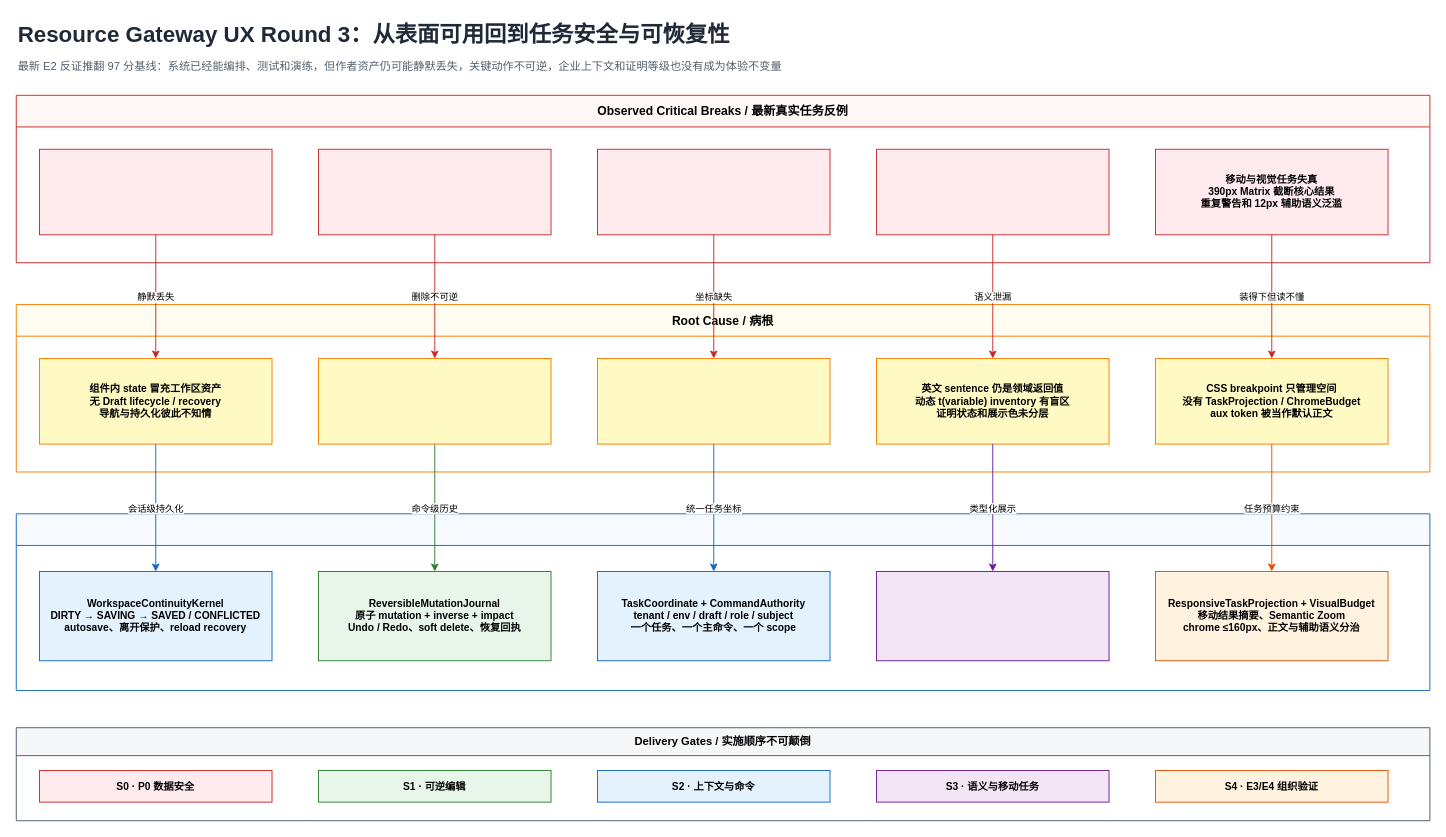
This 1446x837 diagram has some shape labels left out. The box of each missing label's shape, as (x1, y1, x2, y2) in pixels:
SemanticPresentationPlane messageId + params + rawCode 业务结论 / 证明等级 / 技术身份分层: (876, 571, 1109, 661)
setState 直接修改领域事实 没有 transaction / inverse / journal 副资产删除不是同一原子命令: (318, 358, 551, 444)
Target UX Control Plane / 平台化根治机制: (15, 513, 1430, 691)
中文与证明语义泄漏 执行原型、测试结果仍是英文 raw code 进入默认业务列表: (876, 148, 1109, 235)
任务坐标与命令分裂 Author 不显示 tenant / env / role 820px 前 273px 被 chrome 占用: (597, 148, 830, 235)
无保护的数据丢失 5 节点 / 12 连线草稿 跨工作区返回后变 0 / 0: (39, 148, 272, 235)
破坏性编辑不可恢复 Delete 同步移除节点、边 fixture、测试套件与结果: (318, 148, 551, 235)
路由、草稿、角色、环境分散 没有统一 TaskCoordinate 每个 surface 自己决定命令和 chrome: (597, 358, 830, 444)
